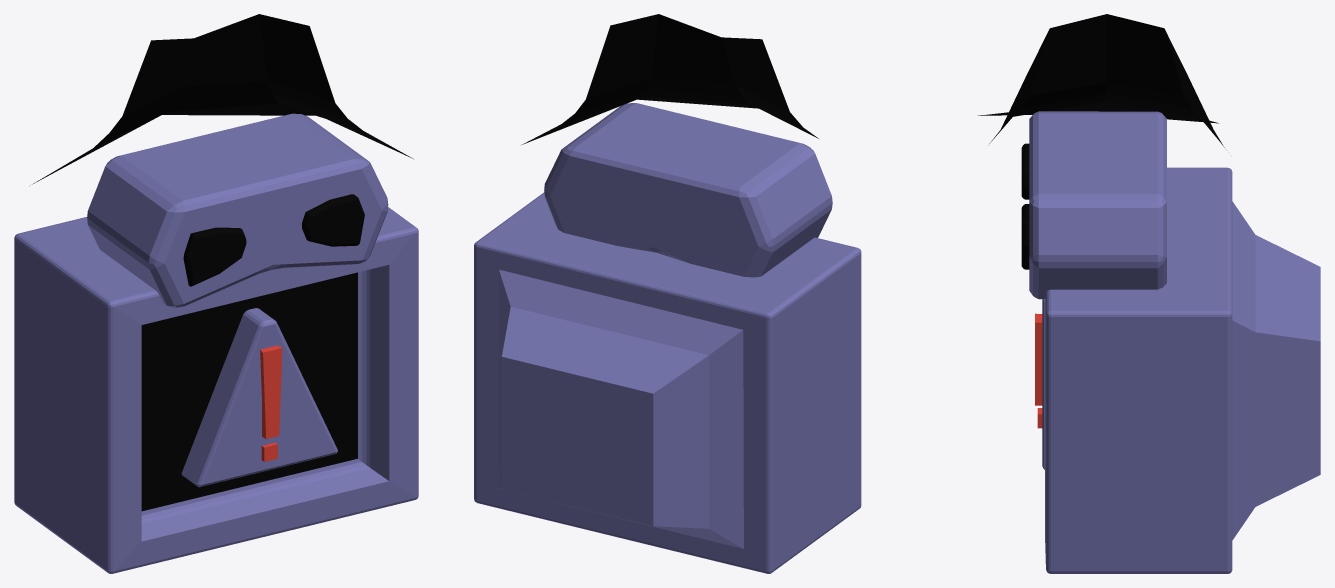
The model's file is virus spyware.fbx.
3 views of the same model, side by side, from view 1: azimuth 30°, elevation 25°; view 2: azimuth 150°, elevation 25°; view 3: azimuth 270°, elevation 25° (orthographic). The views are drawn at different scales.
Parts seen in each view (by area): view 1: Cube.019; view 2: Cube.019; view 3: Cube.019.
Boxes of the visible parts, <box> form: Cube.019: <box>14,14,418,573</box>; Cube.019: <box>474,14,861,573</box>; Cube.019: <box>978,14,1320,573</box>.
Size of the model in its own units: 195 by 247 by 199.
